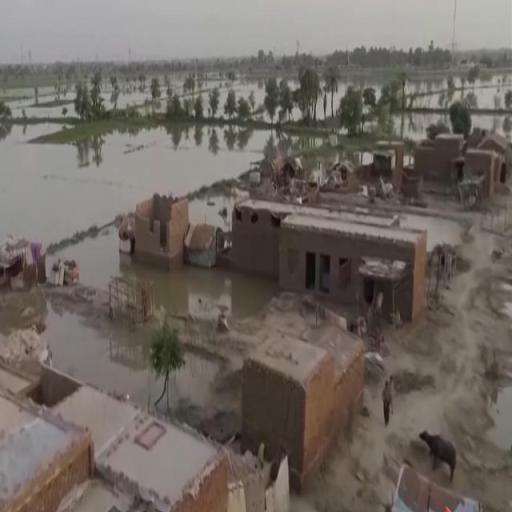flood: (0, 121, 330, 246), (46, 226, 278, 320), (0, 291, 160, 405), (170, 73, 264, 116), (170, 353, 239, 409), (408, 74, 512, 107), (0, 86, 76, 120), (327, 80, 385, 116), (118, 76, 168, 112), (190, 193, 236, 231), (104, 79, 112, 108)
house: (238, 295, 356, 483), (272, 209, 421, 331), (0, 344, 96, 512), (237, 344, 310, 481), (128, 188, 194, 272), (396, 461, 483, 512), (184, 192, 232, 270), (444, 134, 506, 188), (0, 229, 40, 293)
